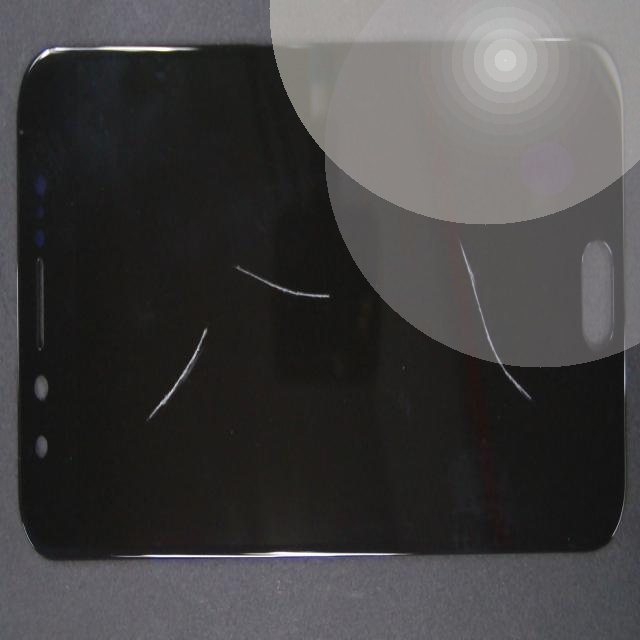scratch: (312, 287, 640, 507), (121, 173, 323, 475), (223, 162, 459, 407)
